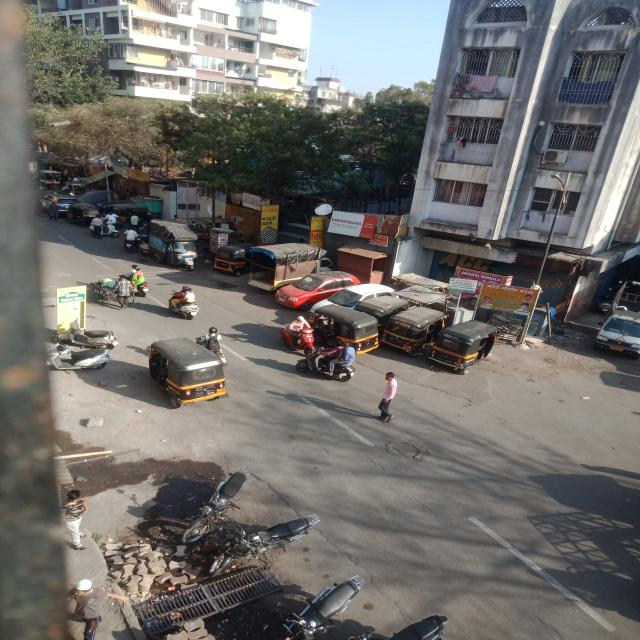Autorickshaw: (145, 336, 237, 408), (304, 301, 387, 352), (430, 318, 500, 377), (385, 303, 445, 353), (358, 292, 410, 326), (208, 241, 258, 276), (66, 201, 102, 227), (113, 203, 155, 224), (95, 200, 134, 214), (258, 272, 258, 272)
Bike: (202, 514, 324, 575), (270, 575, 366, 640), (181, 464, 252, 542), (365, 606, 457, 640), (295, 342, 363, 382), (53, 318, 124, 349), (41, 343, 111, 374), (190, 324, 234, 364), (281, 314, 318, 356), (164, 282, 204, 317), (116, 264, 151, 296), (89, 218, 123, 240), (595, 284, 616, 316), (122, 227, 138, 251), (29, 171, 46, 191), (140, 242, 150, 257)
Car: (310, 282, 400, 318), (276, 270, 364, 299), (36, 188, 78, 217), (76, 190, 120, 203)
Truck: (596, 278, 640, 360)
tempo: (250, 239, 340, 291), (148, 219, 201, 272)
